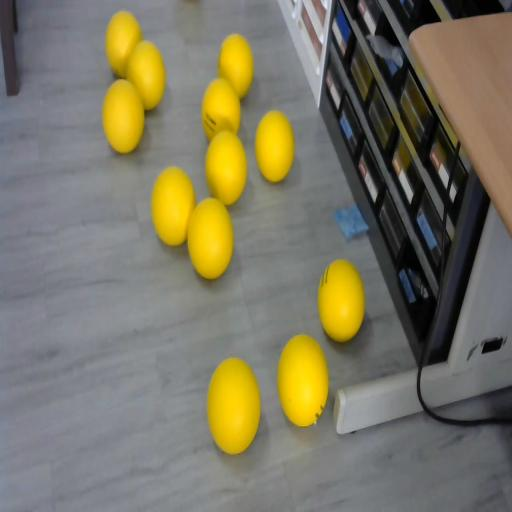FUEL: (205, 354, 261, 455), (276, 332, 330, 426), (186, 196, 234, 280), (318, 258, 364, 342), (150, 164, 196, 246), (204, 129, 248, 205), (102, 79, 145, 154), (254, 110, 294, 182), (105, 10, 143, 78), (218, 34, 254, 98)
